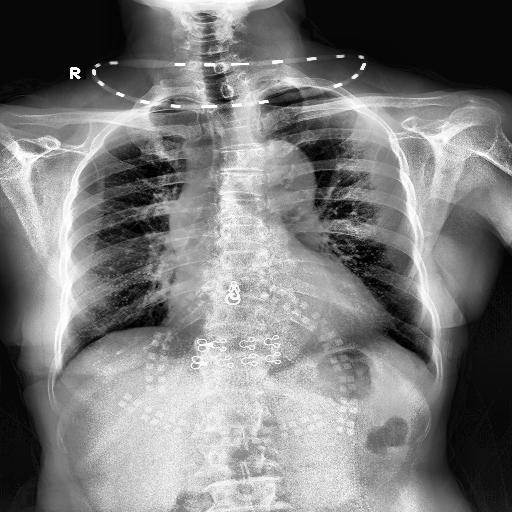0- Aortic enlargement: (168, 140, 314, 276), (242, 144, 313, 214), (243, 141, 315, 199)
11- Pleural thickening: (153, 95, 203, 104), (264, 88, 292, 97)
3- Cardiomegaly: (167, 274, 381, 340), (166, 290, 392, 350), (168, 284, 381, 340)
